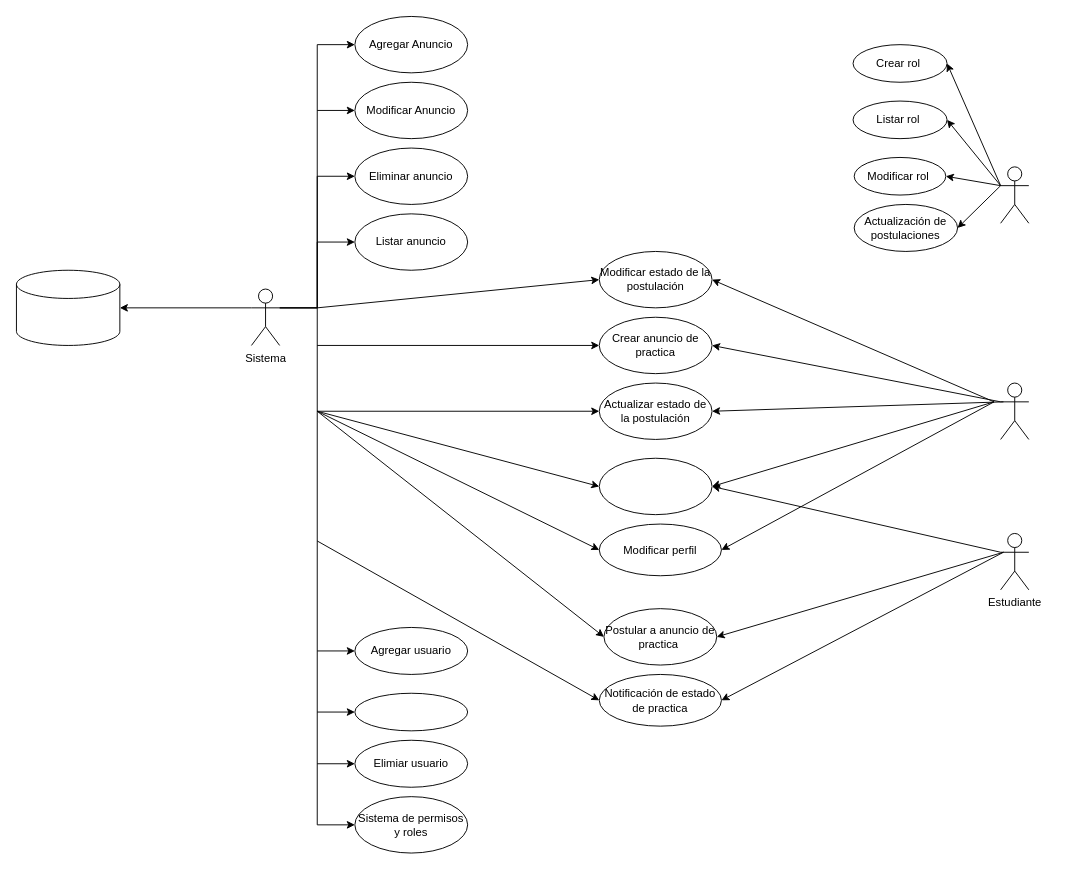
Image size: 1066x870. Some labels were removed from this diagram. The shapes that lost their labels are listed below. From the top down, each one's box as (x1, y1, x2, y2) in pixels, then its label:
(1000, 166, 1029, 223): Administrador
(16, 269, 120, 345): RailWay
(1000, 382, 1029, 439): Empresa
(598, 457, 712, 515): Registrar cuenta
(354, 692, 468, 731): Modificar usuario
